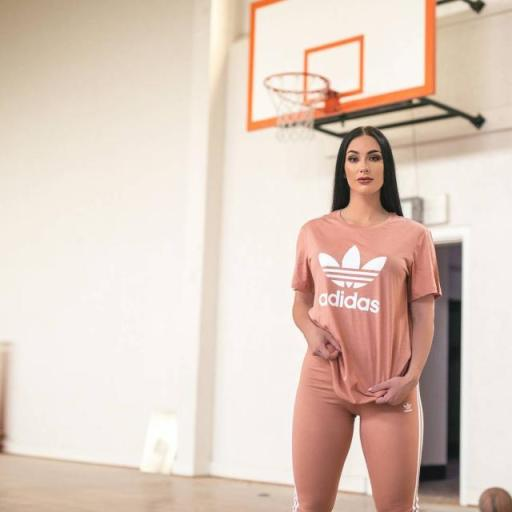Adidas: (313, 242, 388, 316)
